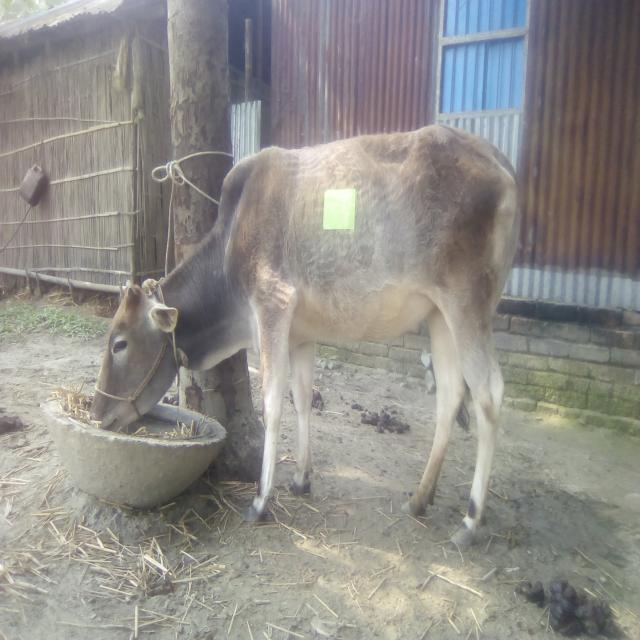badan_sapi: (238, 143, 512, 349)
sapi: (80, 112, 530, 555)
